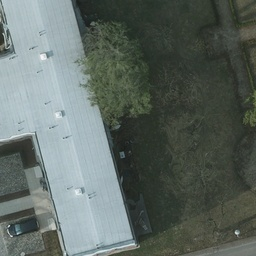car: (9, 218, 38, 236)
